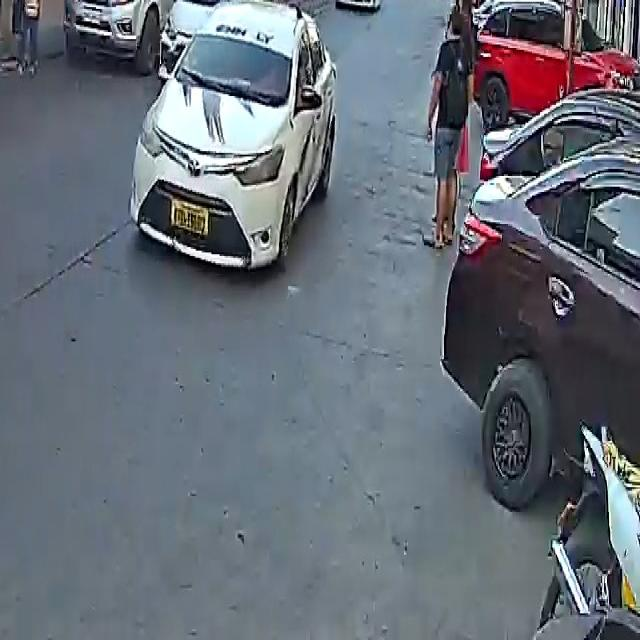car: (442, 80, 640, 537), (130, 0, 341, 270), (467, 0, 637, 132), (63, 0, 190, 69), (158, 0, 285, 66), (334, 0, 388, 12), (290, 0, 336, 4)
